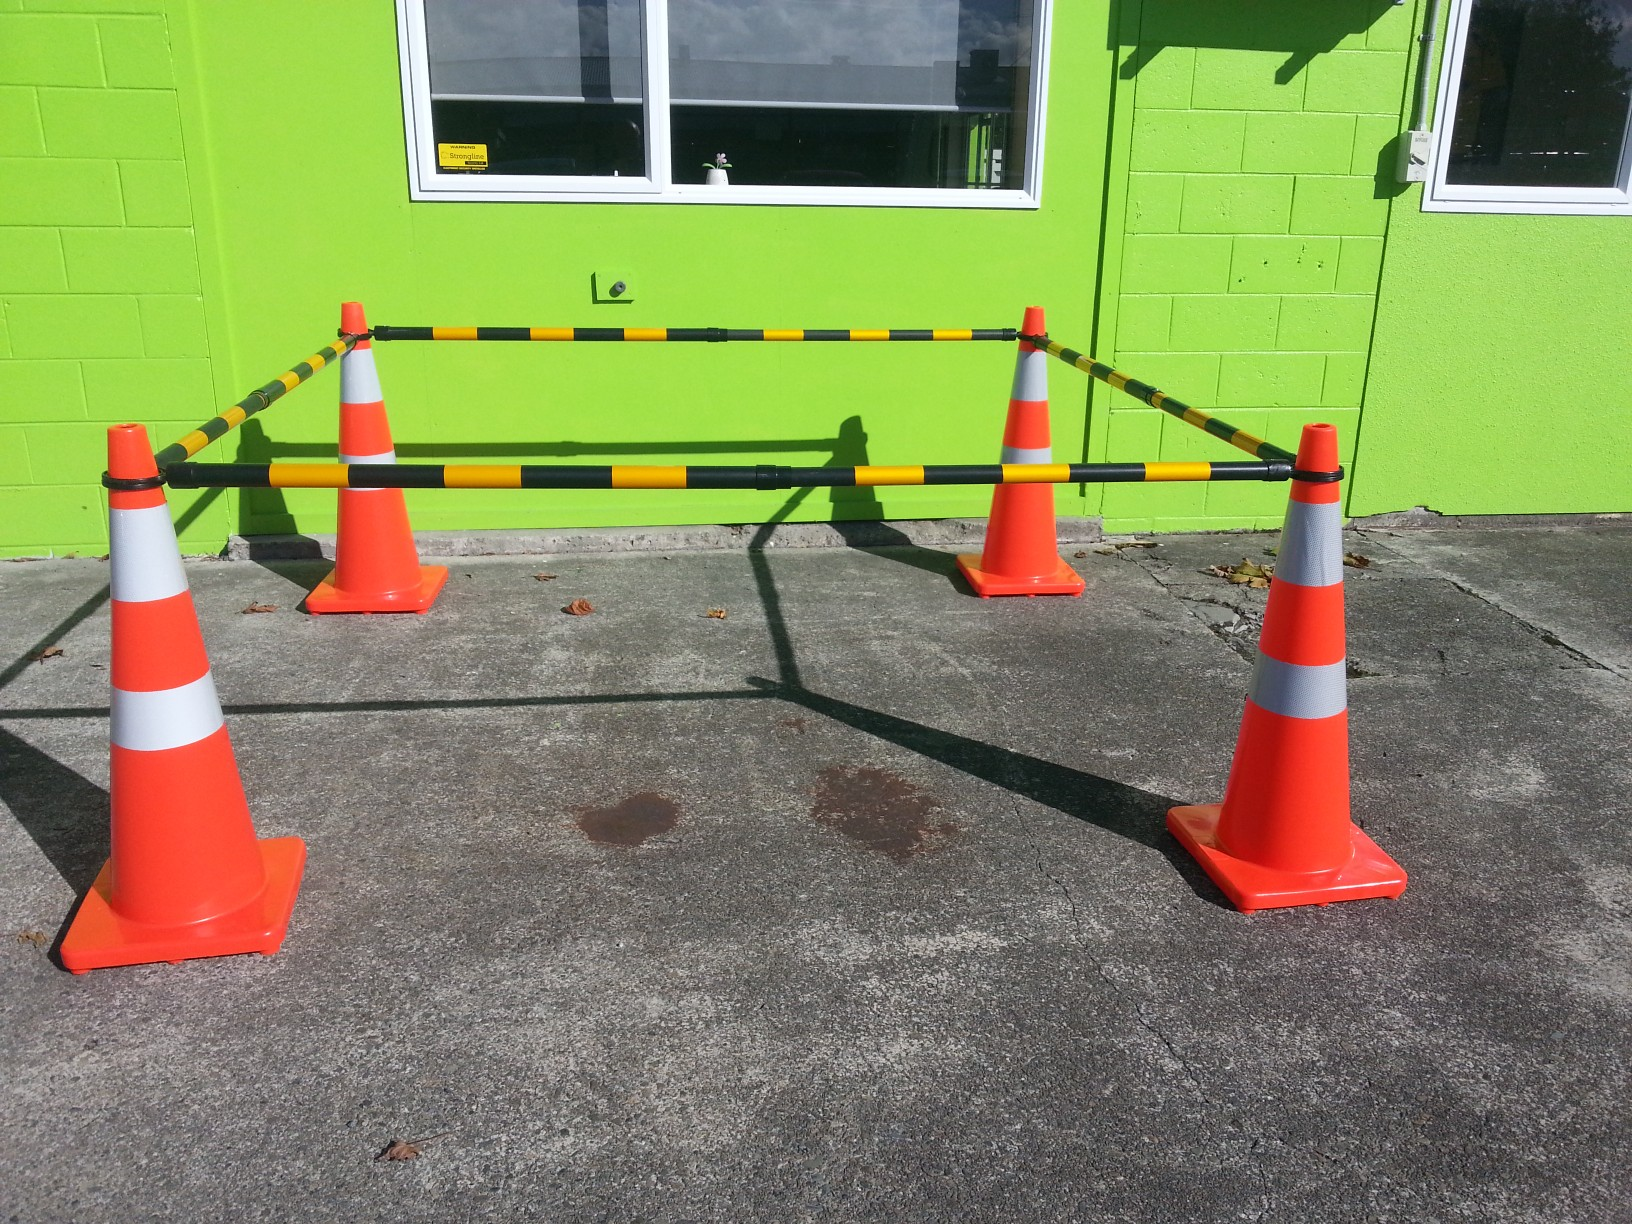cone: (57, 420, 311, 981), (1168, 420, 1415, 915), (307, 298, 451, 613), (960, 303, 1090, 600)
